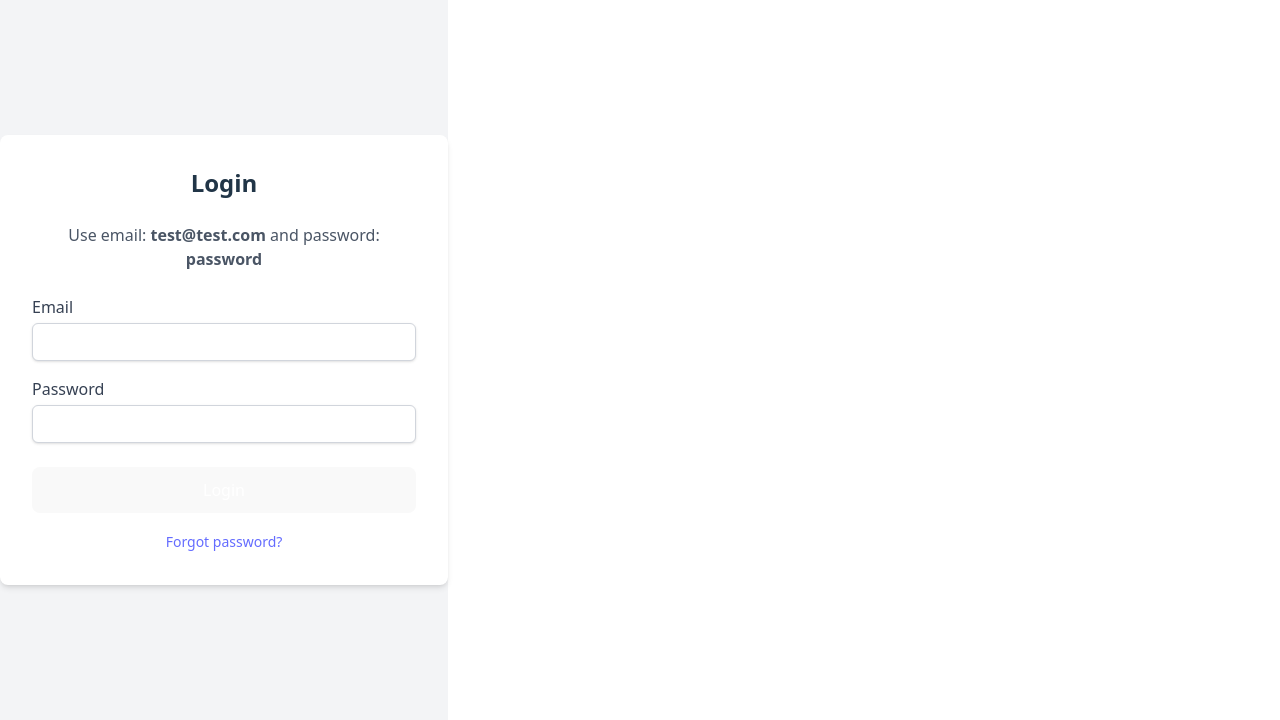
Test: Exercises Page › Authenticated user › Error Handling › redirects to login on unauthorized error and returns after login
Type "test@example.com" into the field named "email" at (224, 342), box [32, 323, 416, 361]
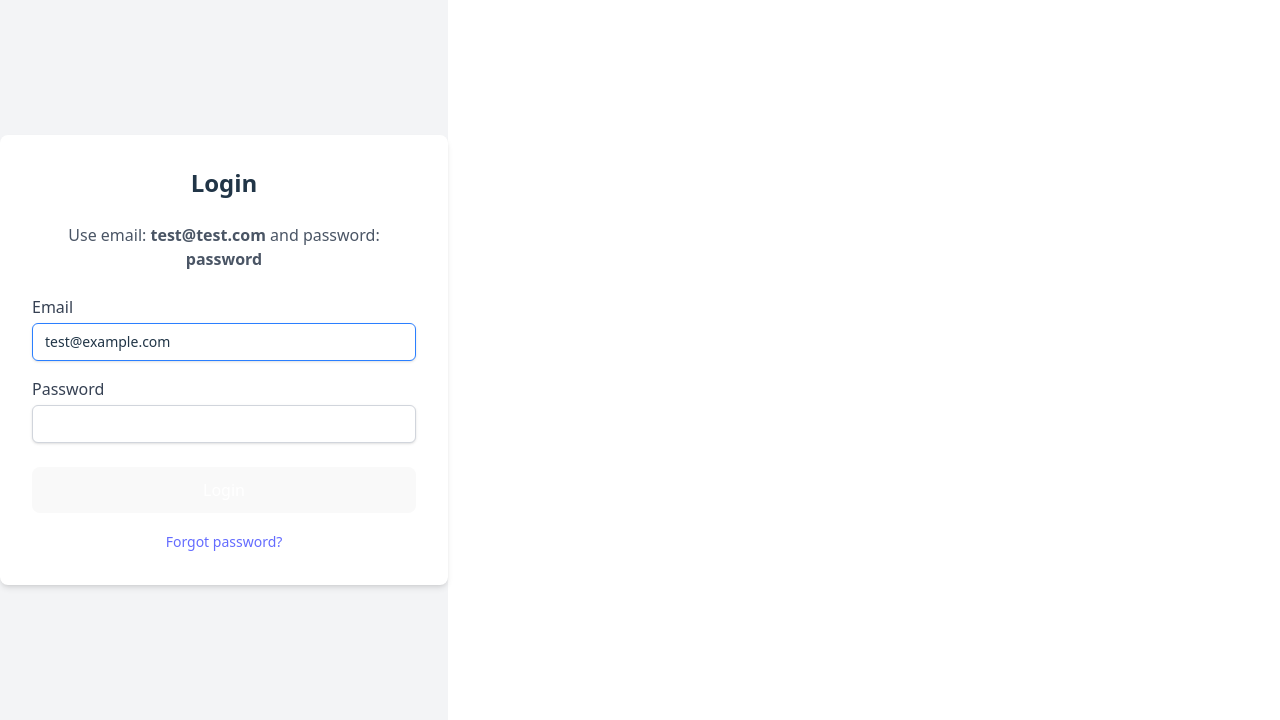
Type "password123" into the password field named "password" at (224, 424), box [32, 405, 416, 443]
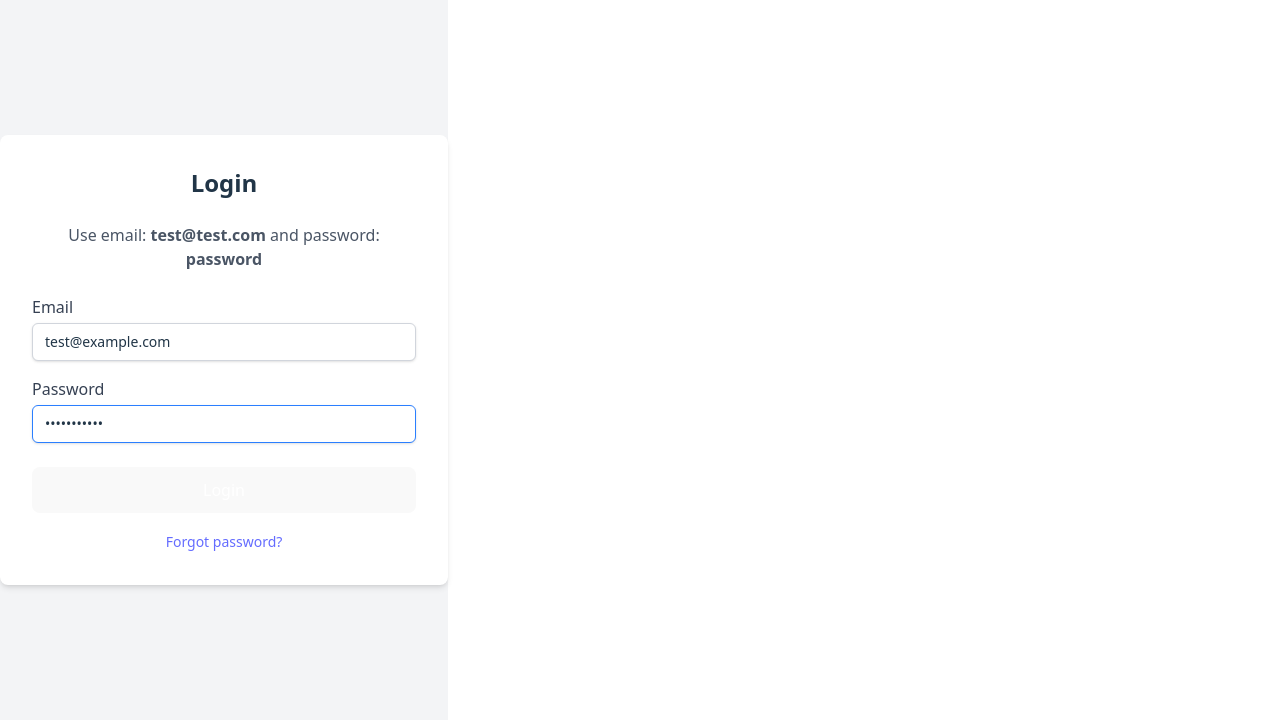
Submit the form with test id "f-login", box [32, 295, 416, 512]
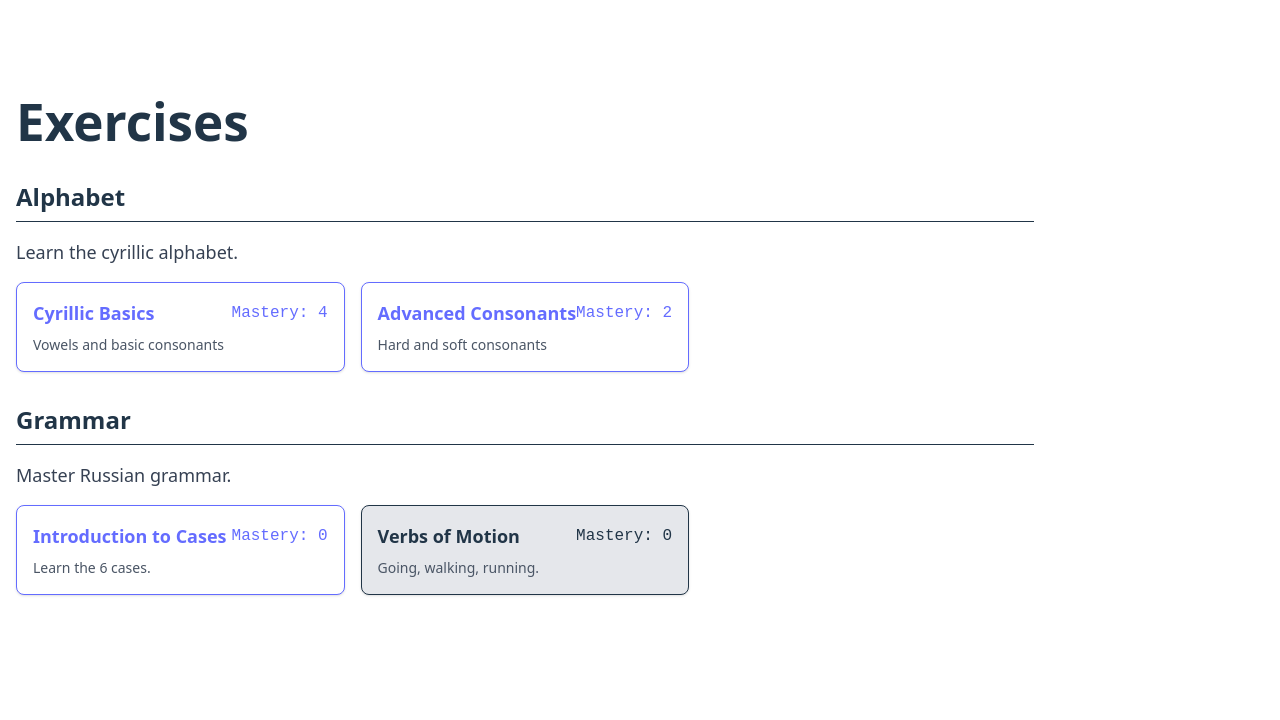
Now the number of elements with test id "exercise" is 4, box [16, 282, 345, 372]; [361, 282, 689, 372]; [16, 505, 345, 595]; [361, 505, 689, 595]
